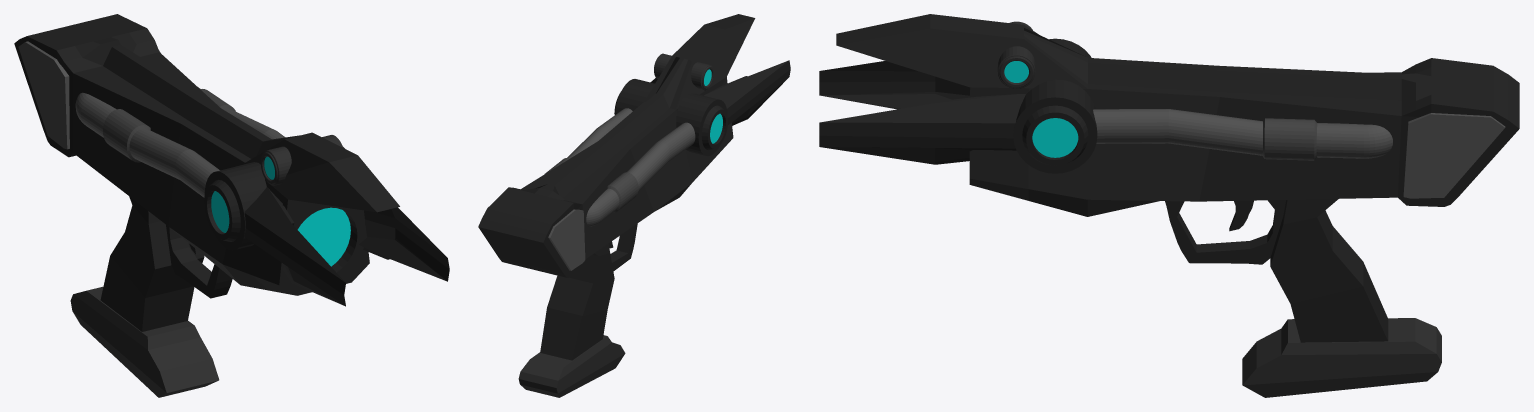
File: Raygun(New).fbx
3 views of the same model, side by side, from view 1: azimuth 30°, elevation 25°; view 2: azimuth 150°, elevation 25°; view 3: azimuth 270°, elevation 25° (orthographic). The views are drawn at different scales.
Parts seen in each view (by area): view 1: Cube.006, Cube.005, Cube.003, Cube.002, Cylinder, Cylinder.003, Cube.007, Cube.004, Cylinder.004, Cylinder.001; view 2: Cube.006, Cube.002, Cylinder, Cube.003, Cylinder.003, Cube.005, Cube.007, Cylinder.001, Cube.004; view 3: Cube.006, Cube.005, Cube.002, Cube.003, Cylinder, Cylinder.003, Cube.007, Cube.004, Cylinder.001.
Boxes of the visible parts, x1=… form: Cube.006: x1=14, y1=14, x2=399, y2=295; Cube.005: x1=244, y1=187, x2=449, y2=306; Cube.003: x1=70, y1=286, x2=219, y2=397; Cube.002: x1=100, y1=196, x2=204, y2=331; Cylinder: x1=75, y1=87, x2=285, y2=197; Cylinder.003: x1=204, y1=147, x2=344, y2=250; Cube.007: x1=18, y1=41, x2=160, y2=149; Cube.004: x1=166, y1=225, x2=232, y2=298; Cylinder.004: x1=297, y1=207, x2=350, y2=266; Cylinder.001: x1=260, y1=135, x2=342, y2=185; Cube.006: x1=478, y1=14, x2=755, y2=277; Cube.002: x1=540, y1=243, x2=614, y2=360; Cylinder: x1=545, y1=108, x2=695, y2=226; Cube.003: x1=518, y1=335, x2=625, y2=397; Cylinder.003: x1=614, y1=79, x2=727, y2=156; Cube.005: x1=650, y1=60, x2=790, y2=125; Cube.007: x1=548, y1=209, x2=585, y2=270; Cylinder.001: x1=654, y1=53, x2=714, y2=90; Cube.004: x1=610, y1=223, x2=637, y2=271; Cube.006: x1=836, y1=14, x2=1519, y2=216; Cube.005: x1=819, y1=61, x2=1025, y2=164; Cube.002: x1=1270, y1=199, x2=1388, y2=342; Cube.003: x1=1242, y1=318, x2=1441, y2=397; Cylinder: x1=1093, y1=109, x2=1392, y2=160; Cylinder.003: x1=1013, y1=38, x2=1097, y2=173; Cube.007: x1=1403, y1=113, x2=1505, y2=198; Cube.004: x1=1165, y1=200, x2=1285, y2=264; Cylinder.001: x1=997, y1=21, x2=1035, y2=88.
Bounding box in the file's own units: 75.06 × 193 × 337.
